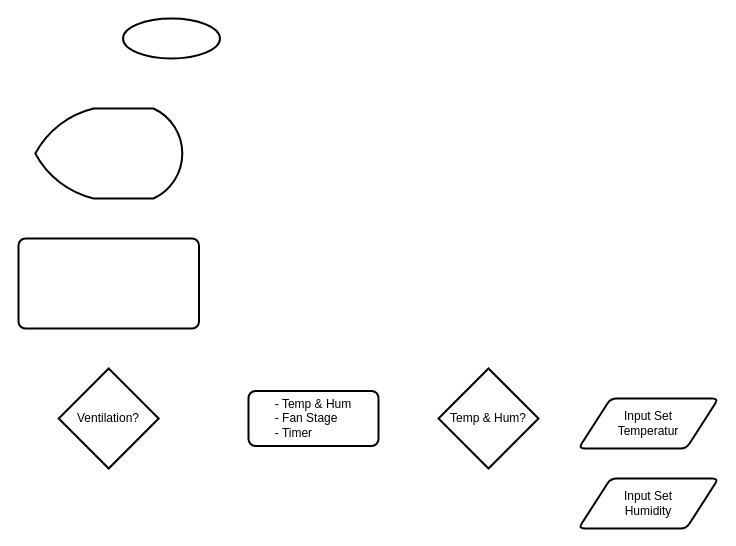
This 736x546 diagram has some shape labels left out. The shapes that lost their labels are listed below. From the top down, each one's box as (x1, y1, x2, y2) in pixels, then its label:
(122, 17, 220, 59): Start
(34, 107, 183, 199): - Act & Set Temp - Act & Set Hum - Day
(17, 237, 200, 329): - Ventilation - Heater - Feed & Water Intake - Poultry Weight - Mortality
